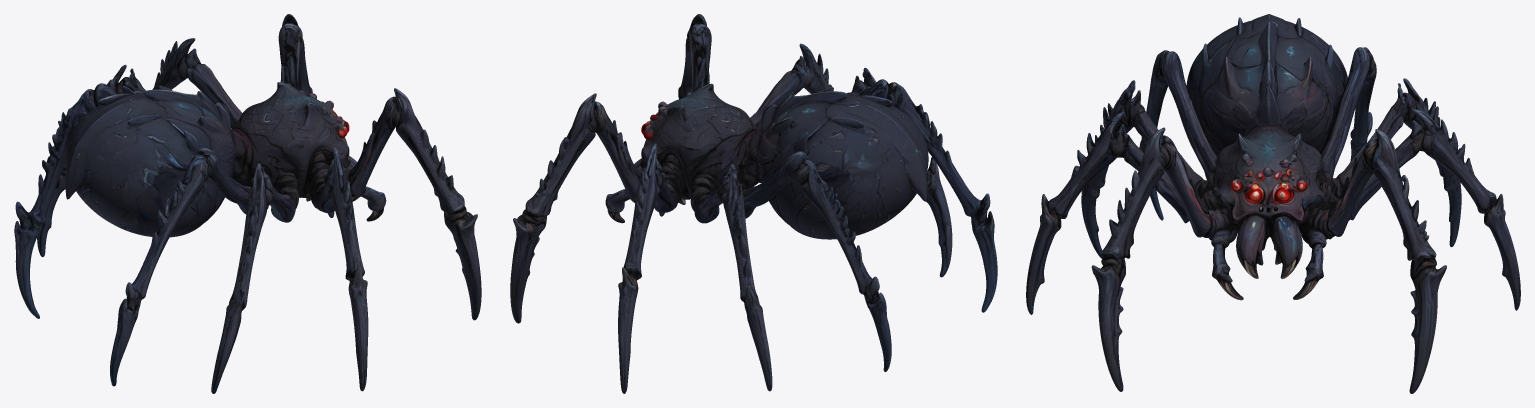
The model's file is floor4-spider.glb.
3 views of the same model, side by side, from view 1: azimuth 30°, elevation 25°; view 2: azimuth 150°, elevation 25°; view 3: azimuth 270°, elevation 25° (orthographic).
Visible parts, largest first — view 1: tripo_node_3cf4f8dc-b2f3-46eb-8fd7-310401c6bb25; view 2: tripo_node_3cf4f8dc-b2f3-46eb-8fd7-310401c6bb25; view 3: tripo_node_3cf4f8dc-b2f3-46eb-8fd7-310401c6bb25.
Part boxes in pixels (x1,y1,x2,y2): tripo_node_3cf4f8dc-b2f3-46eb-8fd7-310401c6bb25: [14, 14, 481, 393]; tripo_node_3cf4f8dc-b2f3-46eb-8fd7-310401c6bb25: [510, 14, 997, 393]; tripo_node_3cf4f8dc-b2f3-46eb-8fd7-310401c6bb25: [1026, 14, 1520, 393].
Bounding box in the file's own units: 0.8369 × 0.5473 × 1.
1 material, 1 textured.
